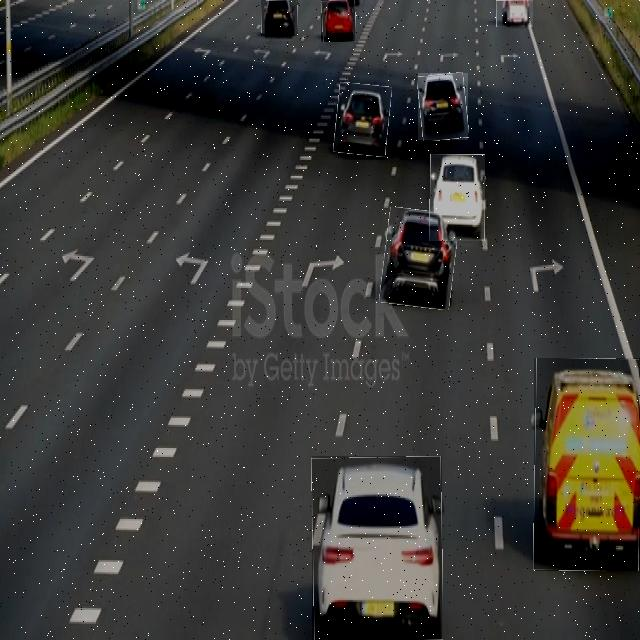Car: (312, 456, 442, 640), (382, 209, 458, 309), (430, 154, 485, 241), (335, 84, 391, 156), (418, 73, 468, 140), (321, 0, 355, 42), (261, 0, 298, 36), (496, 0, 533, 27)
Truck: (534, 358, 640, 571)
